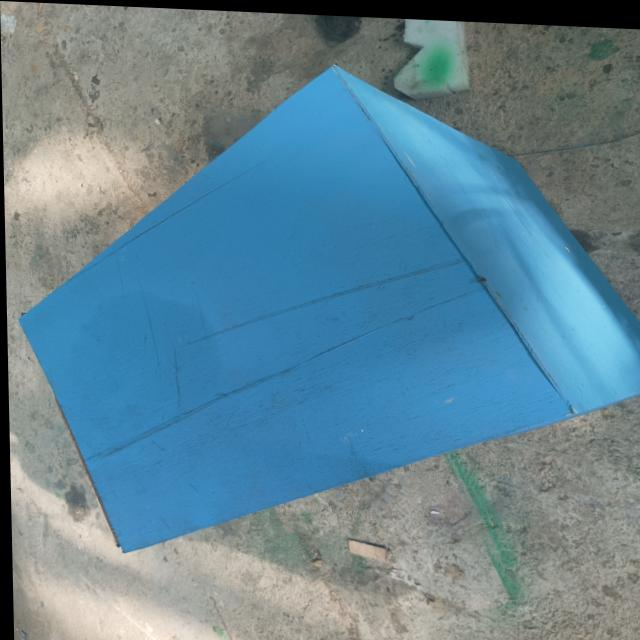blue_box: (11, 53, 640, 574)
